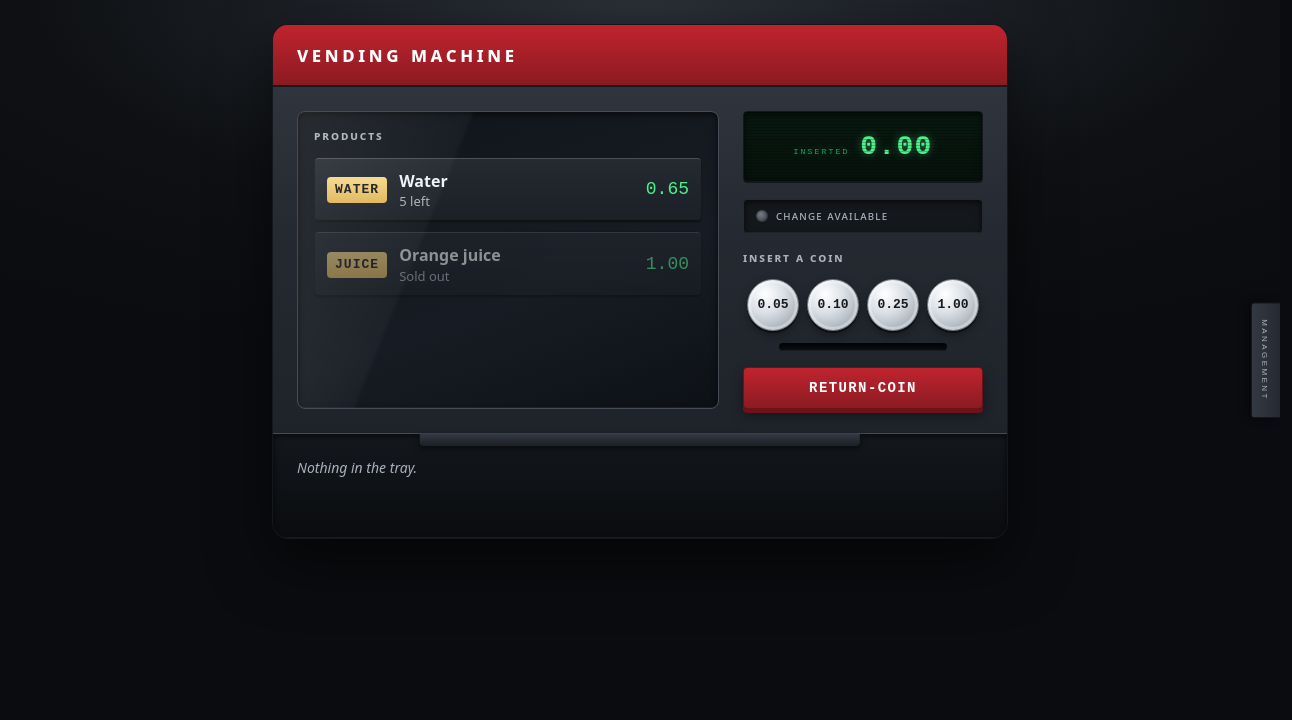
Test case: MachinePage › drops the can and its change into the tray
Click the button "WATER Water 0.65 5 left" at (357, 190), box [314,157,702,223]
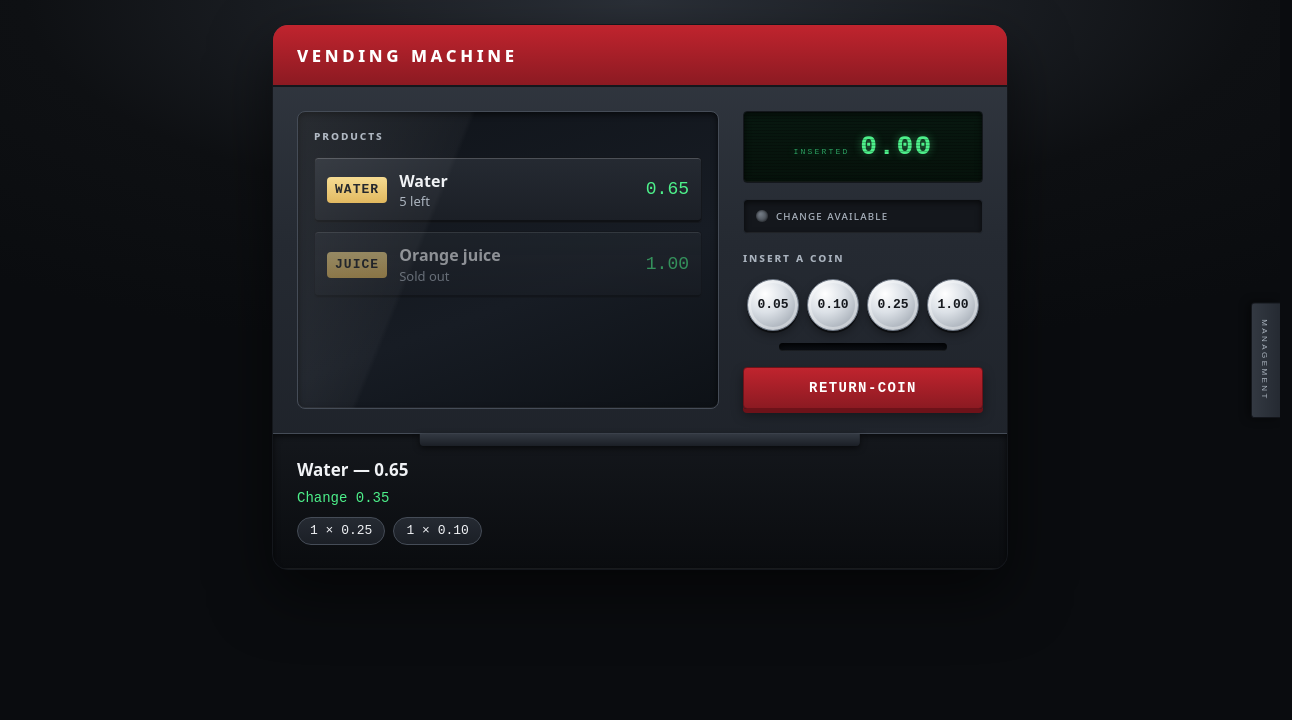
Expected: the message named "Dispense tray" shows "Water", [297,458,408,481]
Expected: the message named "Dispense tray" shows "0.35", [297,490,389,506]
